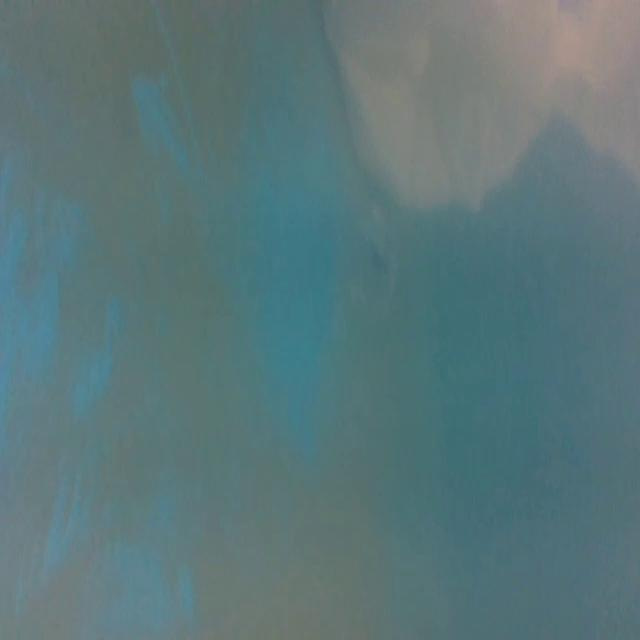plastic bags: (319, 0, 640, 224)
